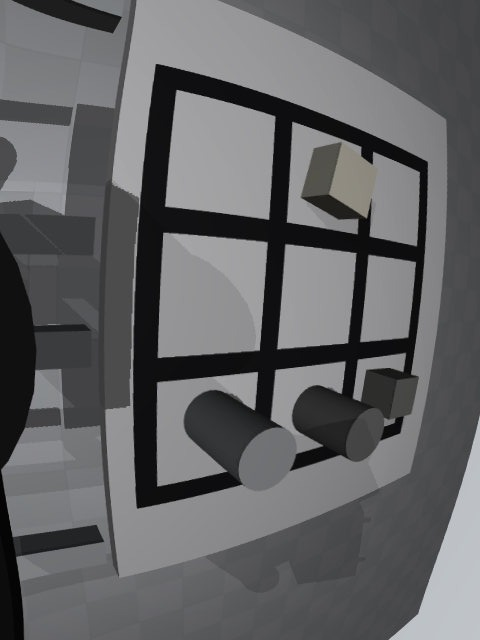can: (183, 390, 297, 491)
cube: (361, 368, 419, 420)
cylinder: (292, 385, 384, 462)
foam: (301, 142, 378, 220)
